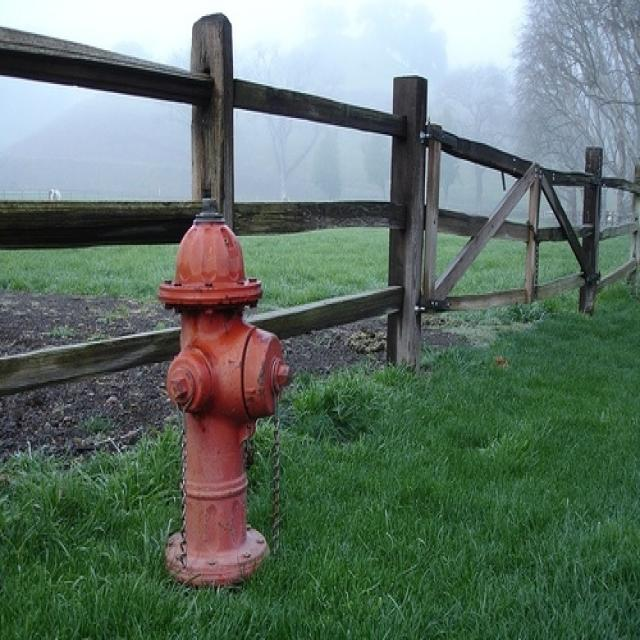fire_hydrant: (141, 173, 321, 624)
